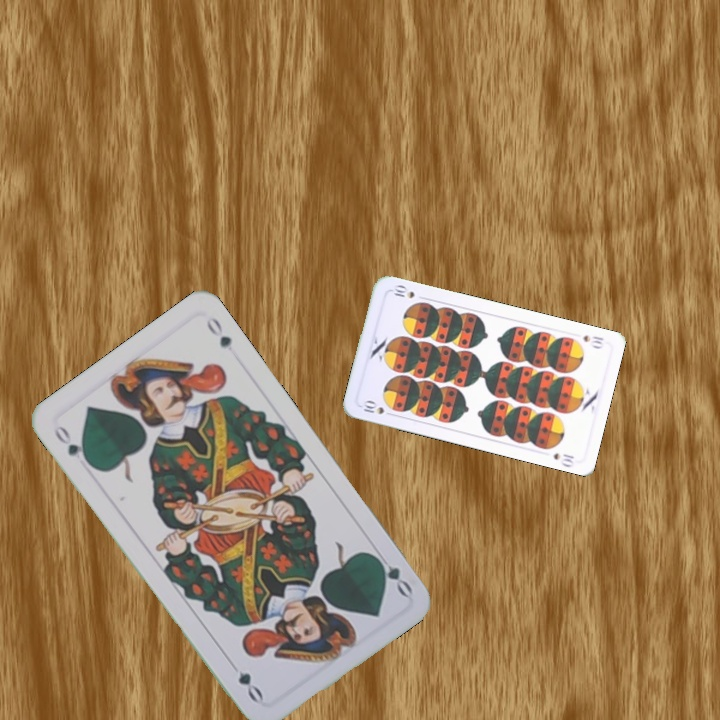GO: (368, 546, 415, 600), (49, 421, 94, 469)
S10: (359, 397, 387, 417), (579, 331, 606, 351)
